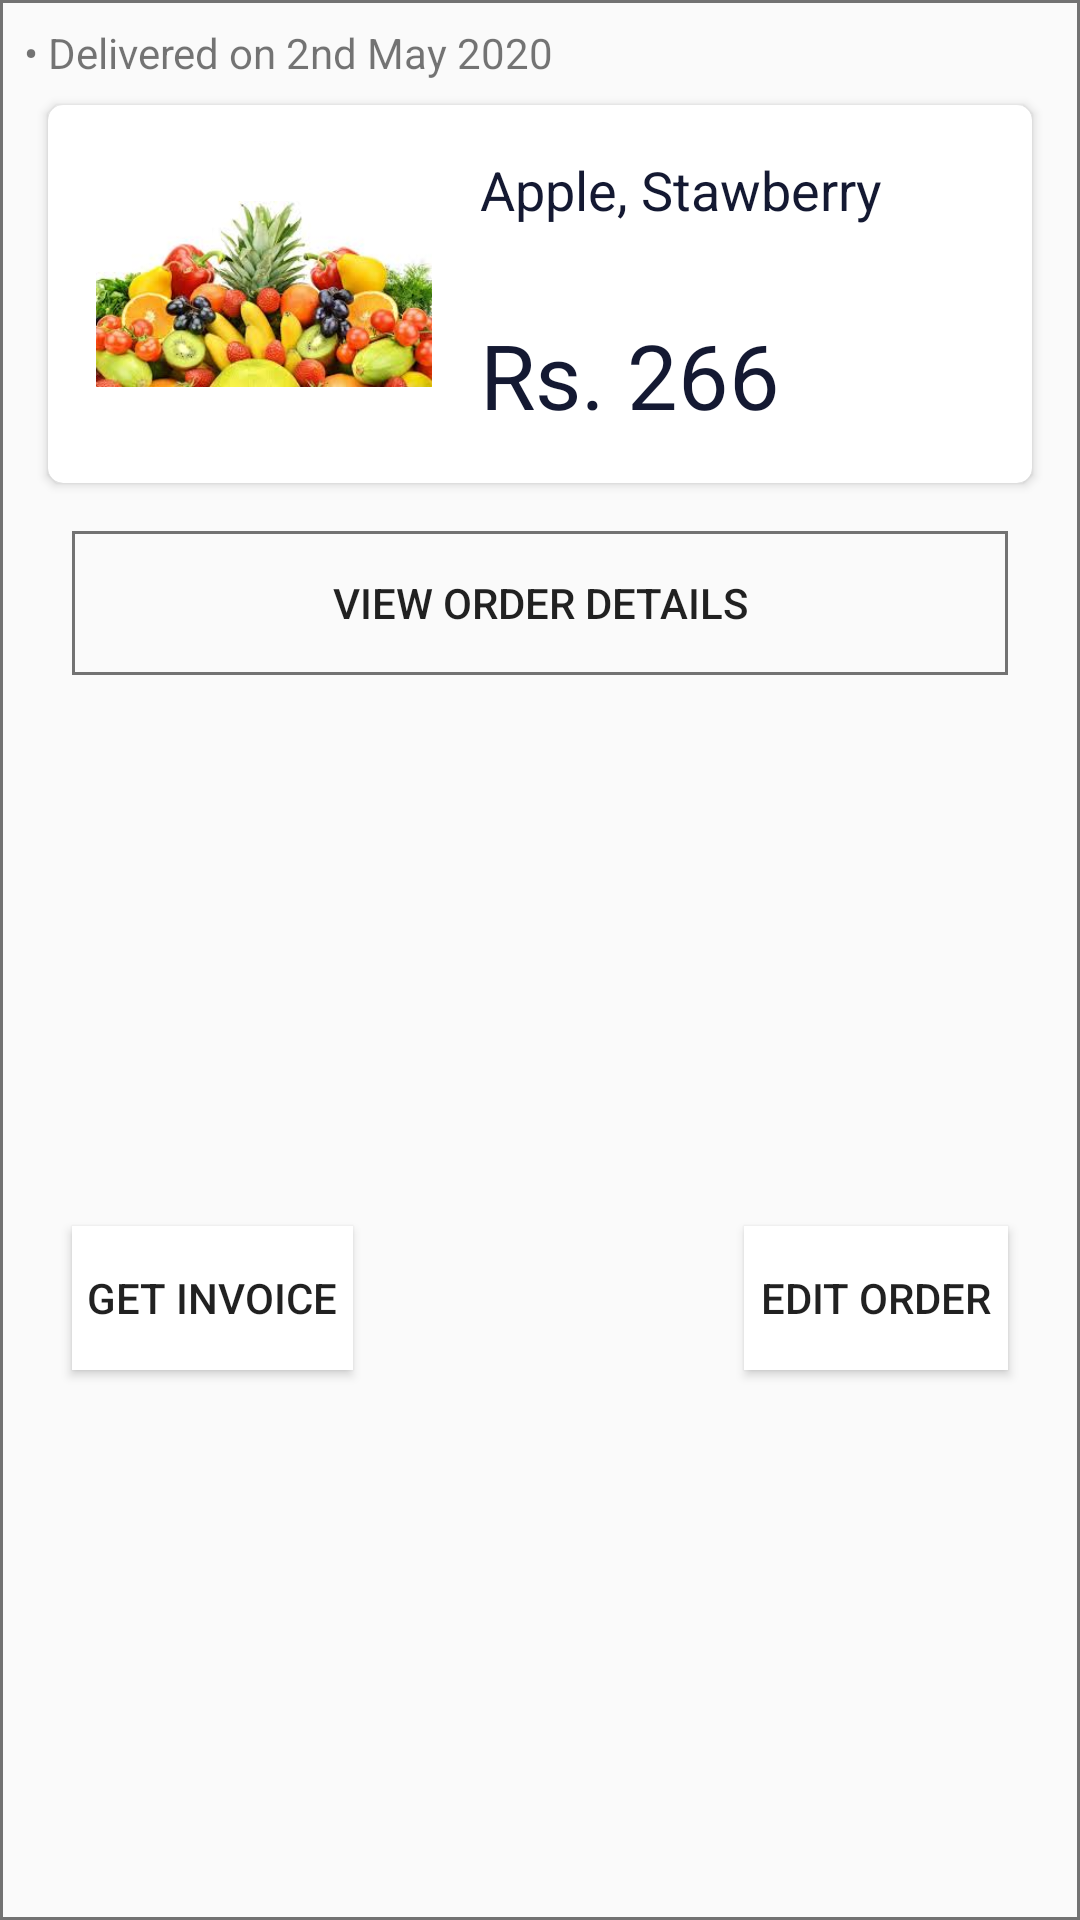

Point at icon controls on the screen. Image size 1080w x 1920h, points as [x,y].
fruits: [264,295]
